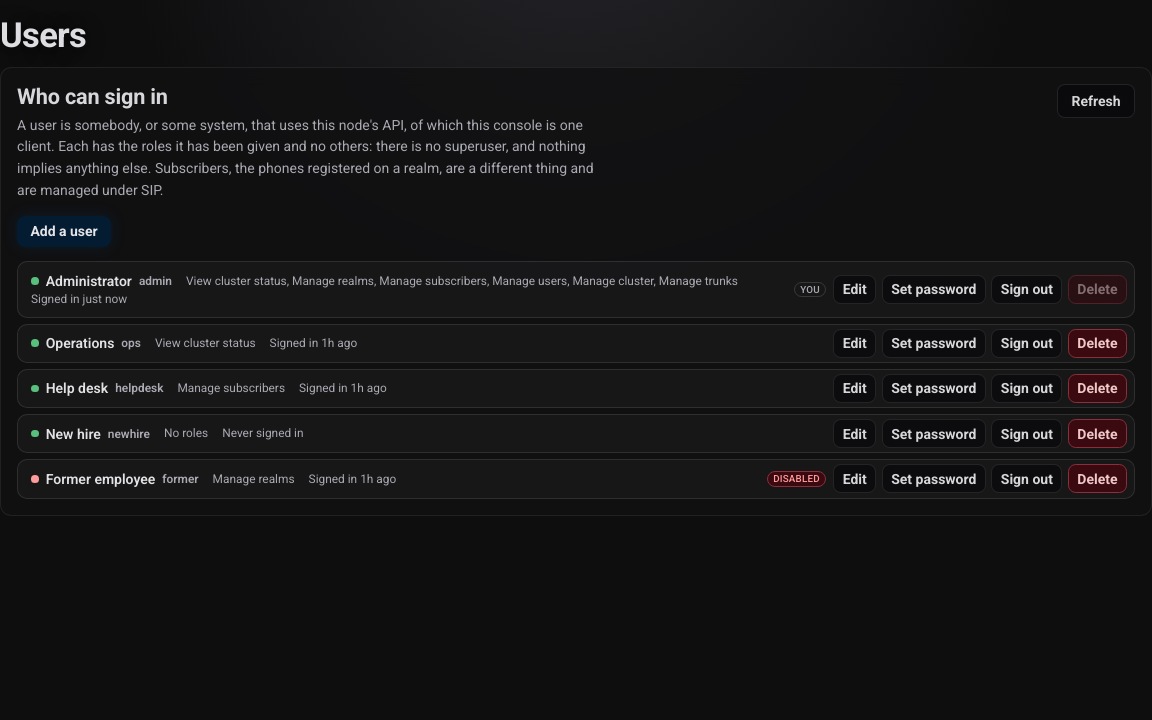
UsersScreen › disables another user
This screenshot has width=1152, height=720.
What coordinates should you click on to do the following:
click the button with aria-label "Edit ops"
I would click on:
 (855, 343)
Its box is [833,329,876,358].
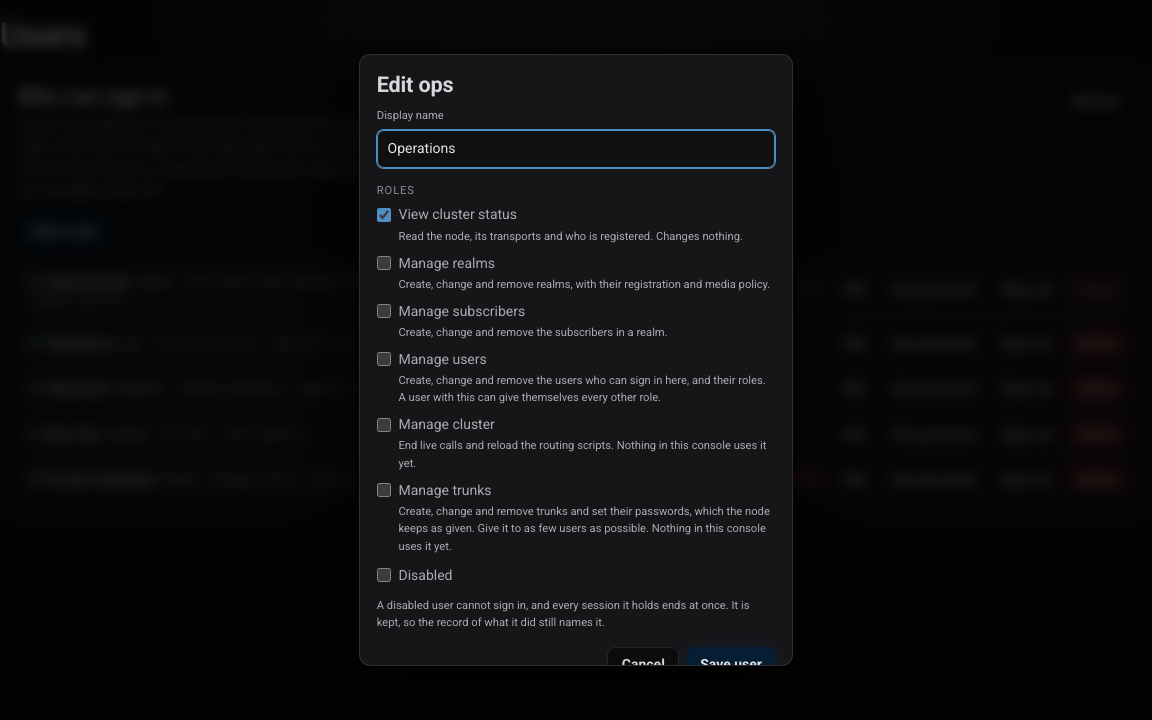
What coordinates should you click on to do the following:
click the checkbox labelled "Disabled"
I would click on:
 (384, 575)
Its box is [377,568,391,582].
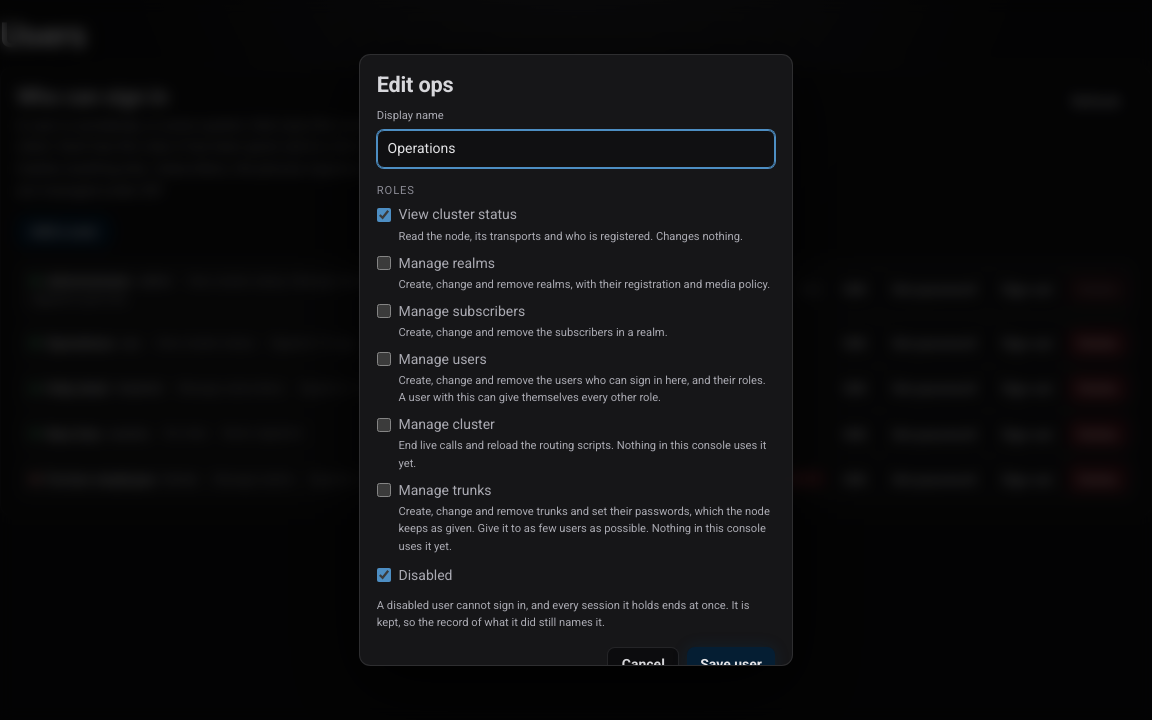
What coordinates should you click on to do the following:
click the button "Save user"
I would click on:
 (731, 664)
Its box is [687,647,775,680].
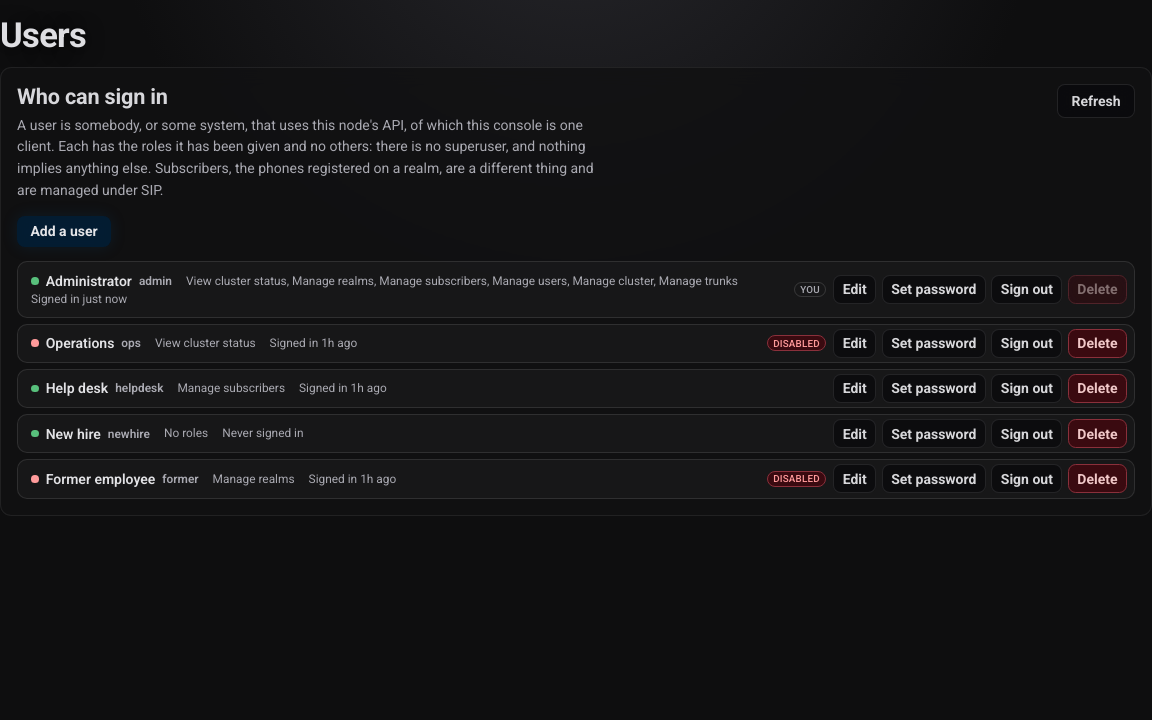
Result: the dialog is gone
